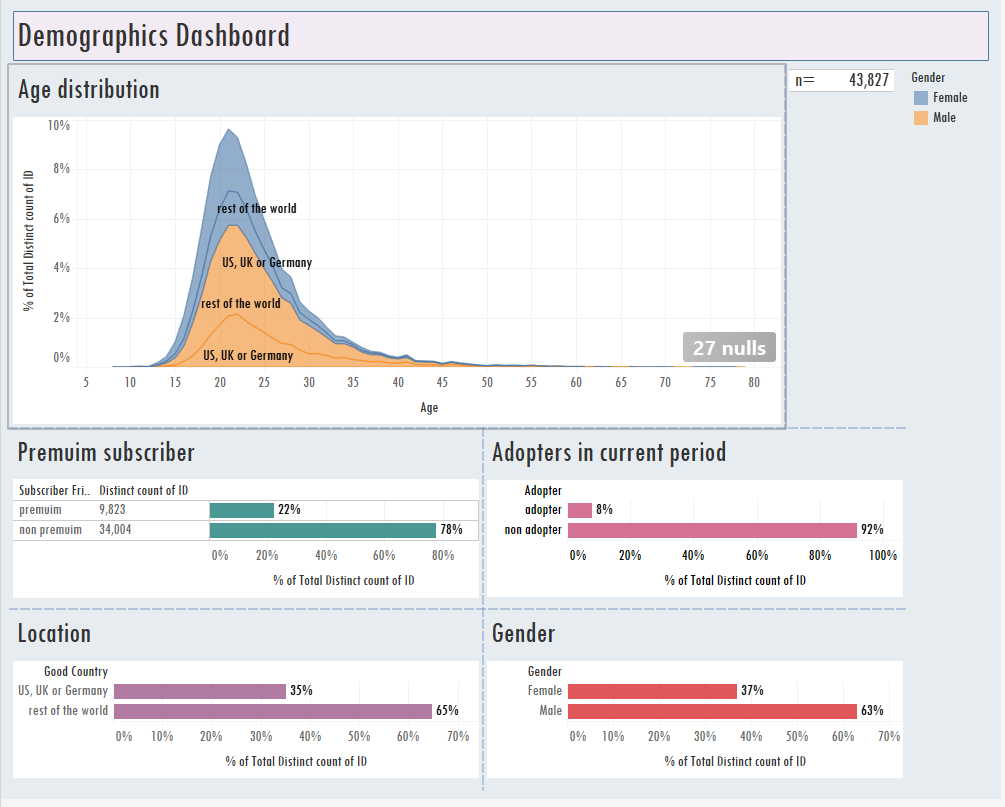

The dashboard page shown, as its layout file describes it:
{"tool":"tableau","page":{"name":"Demographics Dashboard","canvas":[1000,800],"ordinal":0},"visuals":[{"type":"title","box":[8,8,984,58]},{"type":"worksheet","title":"Age distribution","mark":"Area","cols":["age"],"box":[8,66,776,363]},{"type":"worksheet","title":"n","mark":"Automatic","rows":["Calculation_1946681002808094720"],"cols":["Calculation_1946681002808270849"],"box":[784,66,122,363]},{"type":"legend","title":"Age distribution","param":"[federated.1egywcr1bde30310kzw8f15meids].[none:Gender:nk]","box":[906,66,86,67]},{"type":"worksheet","title":"Premuim subscriber ","mark":"Automatic","rows":["subscriber_friend_cnt","ID"],"cols":["ID"],"box":[8,429,474.1,181.5]},{"type":"worksheet","title":"Adopters in current period","mark":"Automatic","rows":["adopter"],"cols":["ID"],"box":[482.1,429,423.9,181.5]},{"type":"worksheet","title":"Location","mark":"Automatic","rows":["good_country"],"cols":["ID"],"box":[8,610.5,474.1,181.5]},{"type":"worksheet","title":"Gender","mark":"Automatic","rows":["Gender"],"cols":["ID"],"box":[482.1,610.5,423.9,181.5]}]}

Visuals, with their boxes in screenshot pixels (x1, y1, x2, y2), scaled from the page's 1000x800 canvas onto the 1005x807 screenshot:
title: <box>8,8,997,67</box>
"Age distribution" worksheet (Area marks): <box>8,67,788,433</box>
"n" worksheet: <box>788,67,911,433</box>
"Age distribution" legend: <box>911,67,997,134</box>
"Premuim subscriber " worksheet: <box>8,433,485,616</box>
"Adopters in current period" worksheet: <box>485,433,911,616</box>
"Location" worksheet: <box>8,616,485,799</box>
"Gender" worksheet: <box>485,616,911,799</box>
